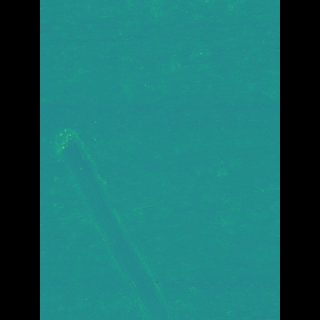Loch: (79, 126, 172, 319)
